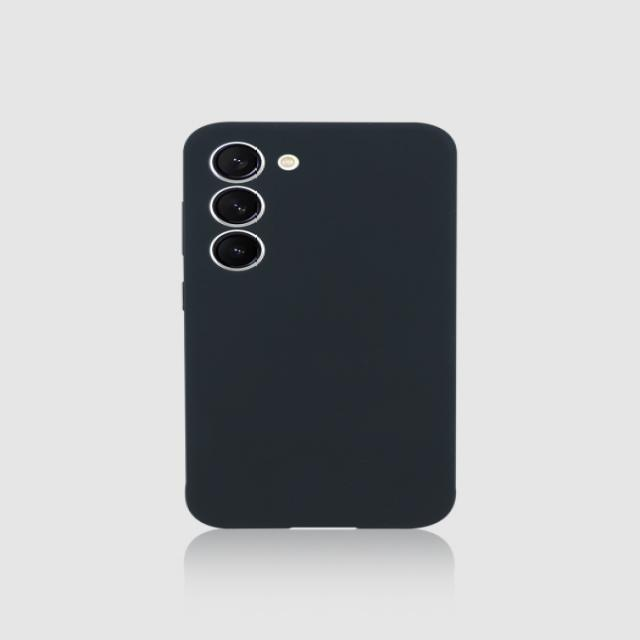phone: (180, 122, 457, 532)
